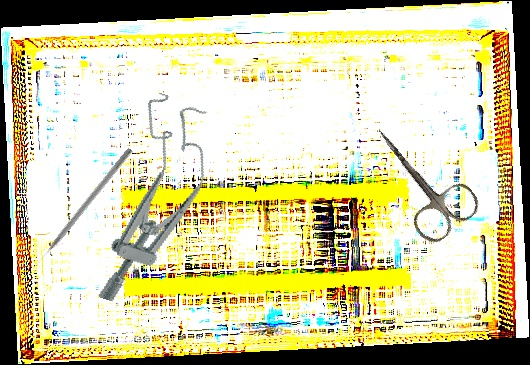Iris Scissors: (353, 108, 485, 249)
Pusher: (31, 146, 133, 270)
Speculum: (83, 90, 226, 317)
